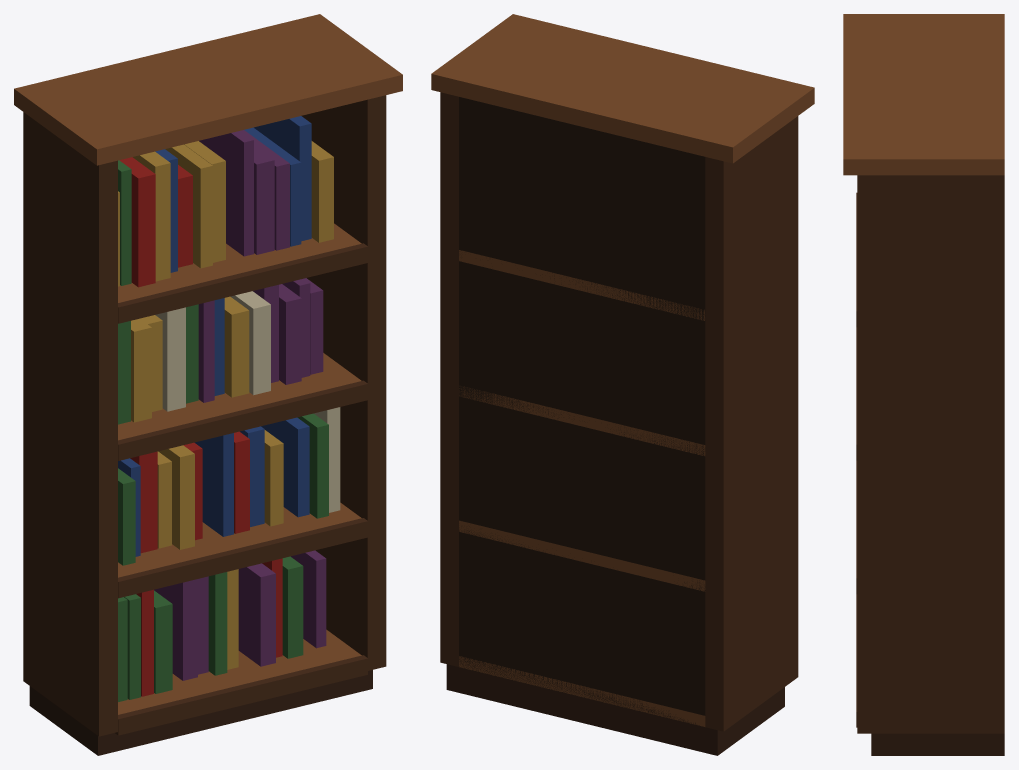
The model's file is bookshelf.obj.
3 views of the same model, side by side, from view 1: azimuth 30°, elevation 25°; view 2: azimuth 150°, elevation 25°; view 3: azimuth 270°, elevation 25° (orthographic). The views are drawn at different scales.
Parts seen in each view (by area): view 1: Cube, Cube.003, Cube.001, Cube.002, Cube.007, Cube.011, Cube.009, Cube.013, Cube.006, Cube.010, Cube.008, Cube.012 (+51 smaller); view 2: Cube.005, Cube, Cube.003, Cube.001, Cube.002, Cube.008, Cube.006, Cube.010, Cube.012; view 3: Cube.001, Cube.003, Cube.002.
Part boxes in pixels (x1,y1,x2,y2): Cube: (23,112,117,736); Cube.003: (14,14,402,165); Cube.001: (301,95,386,670); Cube.002: (29,670,372,755); Cube.007: (115,655,367,735); Cube.011: (118,380,367,460); Cube.009: (118,518,367,598); Cube.013: (118,243,367,323); Cube.006: (118,629,361,714); Cube.010: (118,353,361,440); Cube.008: (118,502,361,577); Cube.012: (118,223,361,302); Cube.005: (459,97,705,725); Cube: (705,116,798,731); Cube.003: (431,14,814,163); Cube.001: (440,92,458,666); Cube.002: (446,664,784,755); Cube.008: (459,520,705,591); Cube.006: (459,656,705,726); Cube.010: (459,386,705,455); Cube.012: (459,250,704,320); Cube.001: (857,175,1004,733); Cube.003: (843,14,1004,175); Cube.002: (871,733,1004,755).
Bounding box in the file's own units: 0.98 × 1.9 × 0.46.
